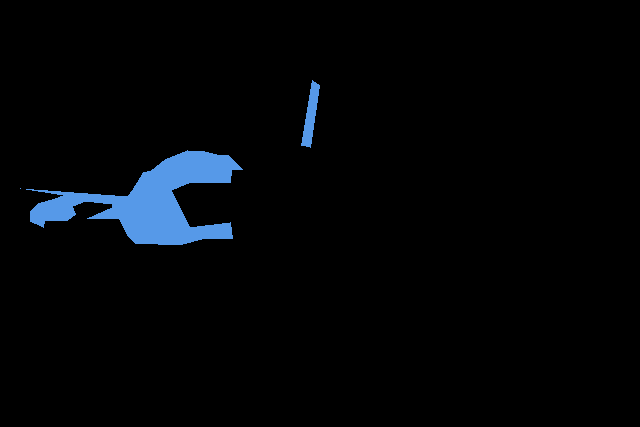Airplane: (20, 80, 320, 245)
